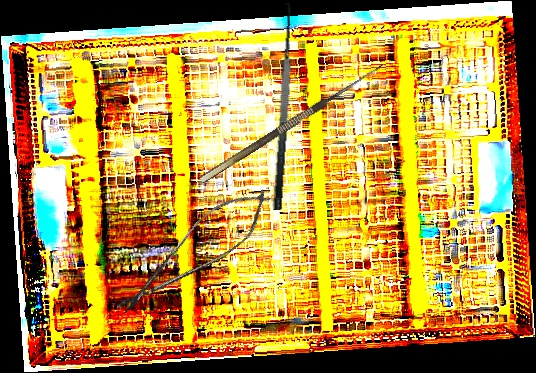Hook Surgical: (193, 53, 386, 184)
Micro Scissor: (106, 175, 283, 330)
Spatula Surgical: (254, 1, 301, 211)
